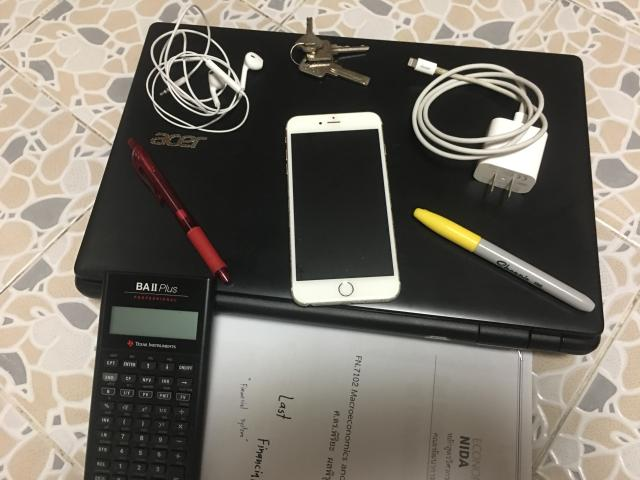Keys: (290, 18, 370, 85)
Mobile phone: (286, 112, 400, 306)
Pen: (414, 208, 595, 311), (128, 139, 230, 284)
paper: (200, 314, 531, 479)
wire: (408, 58, 548, 196), (145, 5, 264, 132)
